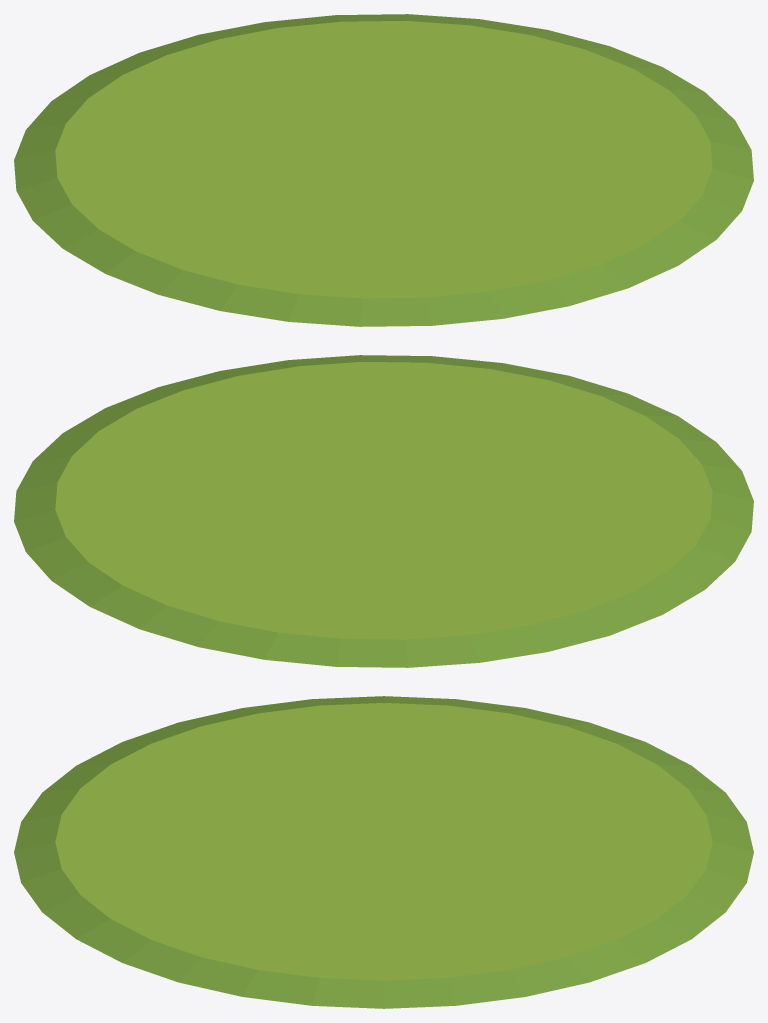
Rendered from pastocirculo.fbx.
The picture shows the model from 3 angles, top to bottom: view 1: azimuth 30°, elevation 25°; view 2: azimuth 150°, elevation 25°; view 3: azimuth 270°, elevation 25°; orthographic projection.
Parts seen in each view (by area): view 1: pastocirculo; view 2: pastocirculo; view 3: pastocirculo.
Part boxes in pixels (bbox=[...]): pastocirculo: bbox=[14, 14, 753, 326]; pastocirculo: bbox=[14, 355, 753, 667]; pastocirculo: bbox=[14, 696, 753, 1008].
Size of the model in its own units: 612 by 9.81 by 612.
